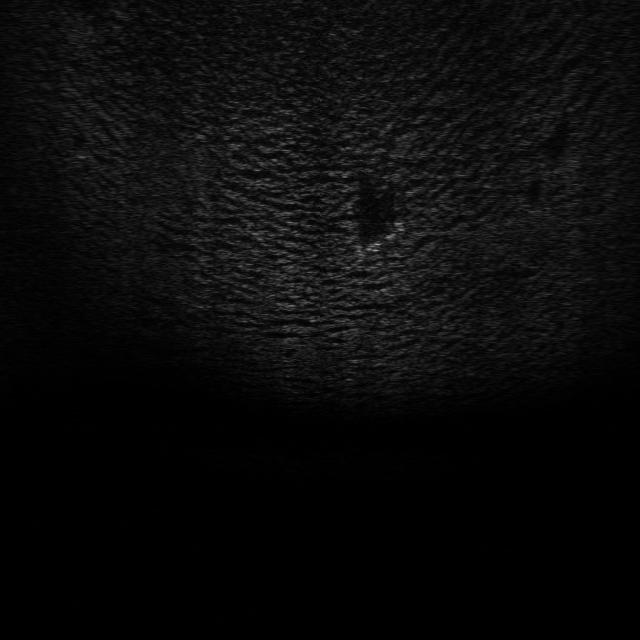plane: (346, 223, 404, 265)
